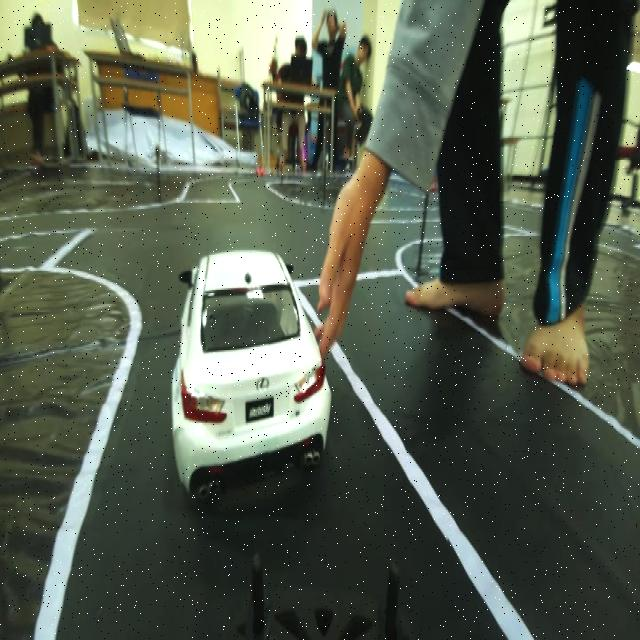car: (152, 218, 333, 512)
